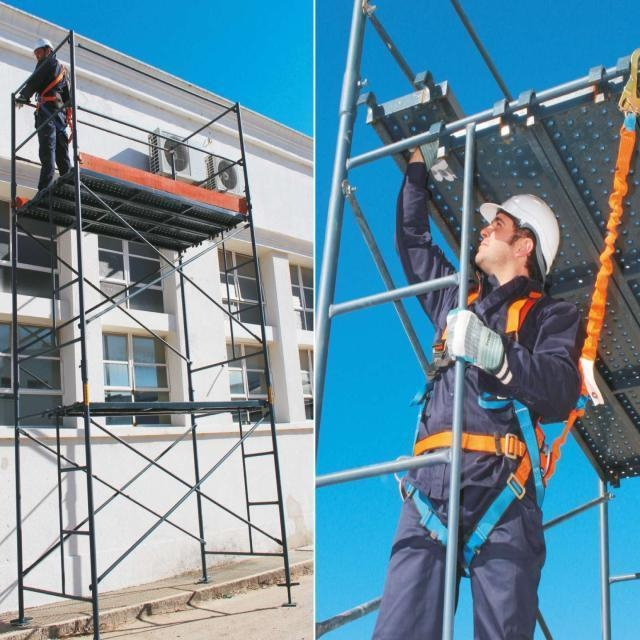Arnes_seguridad: (404, 286, 547, 569), (34, 63, 69, 123)
